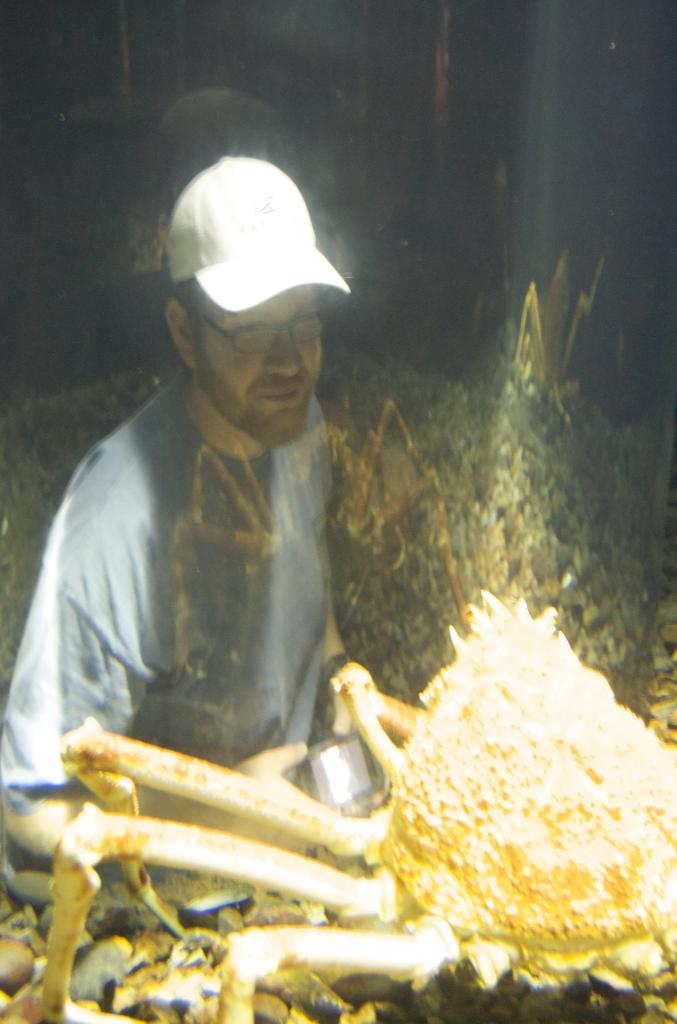Animal: (1, 587, 675, 1022)
